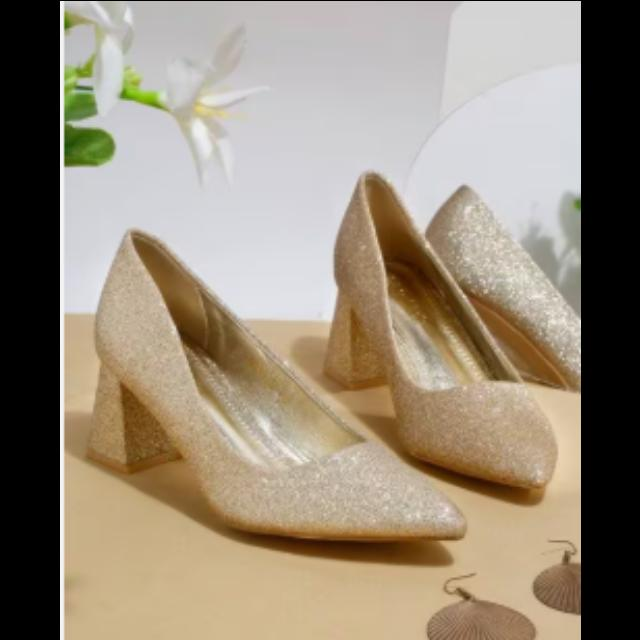shoes: (97, 232, 461, 538), (326, 180, 554, 424)
